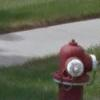Hydrant: (44, 30, 94, 100)
